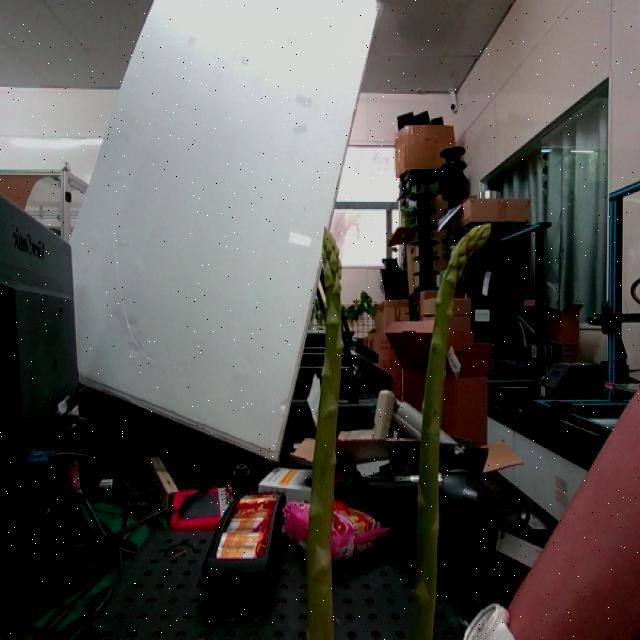aspargus: (409, 220, 489, 640), (316, 235, 343, 640)
